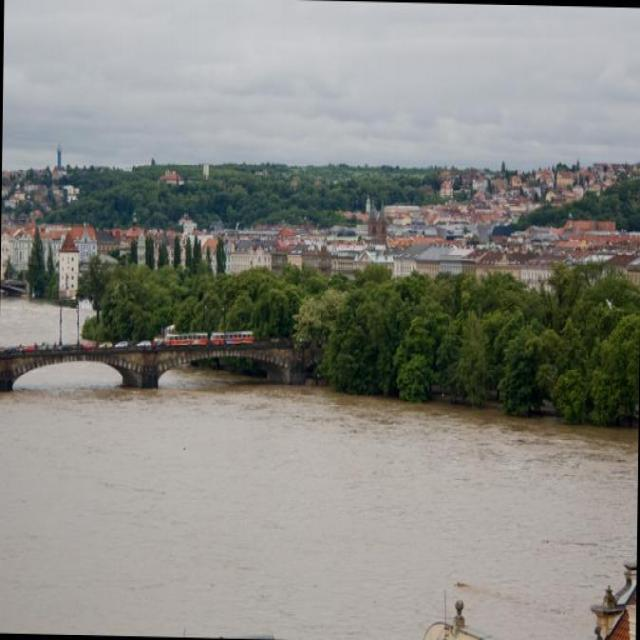flood: (0, 368, 639, 639)
